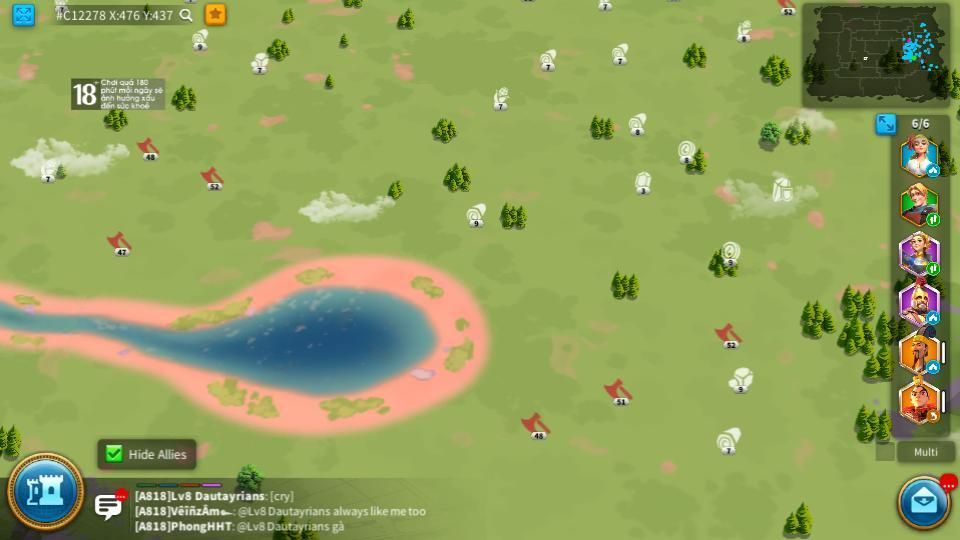gem-z-out: (633, 172, 653, 194)
march_idle: (927, 312, 940, 324), (927, 165, 941, 176), (927, 362, 940, 373)
march_marching: (925, 263, 938, 275), (927, 215, 940, 226)
march_returning: (926, 410, 941, 422)
